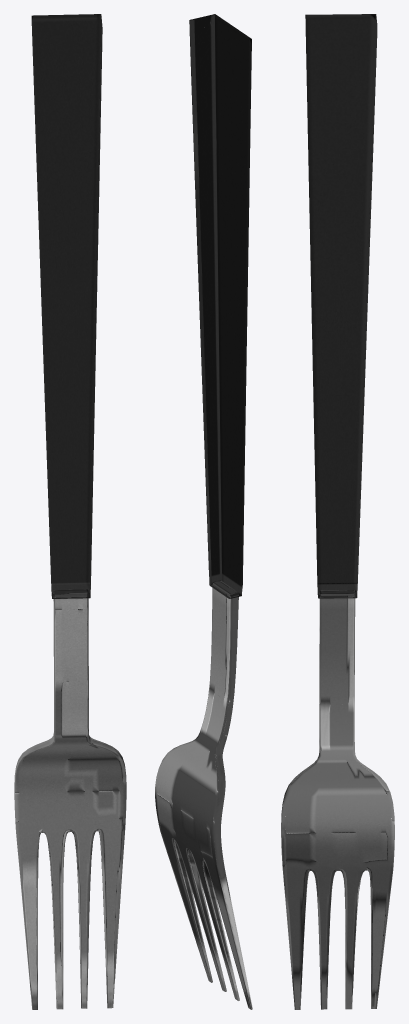
The model's file is fork_1.obj.
3 views of the same model, side by side, from view 1: azimuth 90°, elevation 25°; view 2: azimuth 210°, elevation 25°; view 3: azimuth 270°, elevation 25° (orthographic). The views are drawn at different scales.
Size of the model in its own units: 0.0158 by 0.2856 by 0.0296.
Materials: 1 (1 with a texture image).
